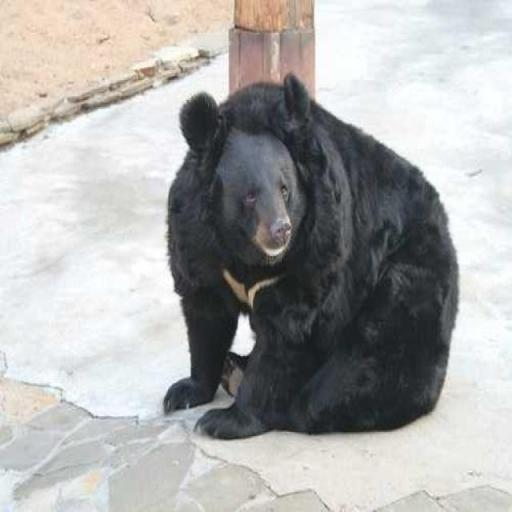Bear: (163, 70, 459, 439)
